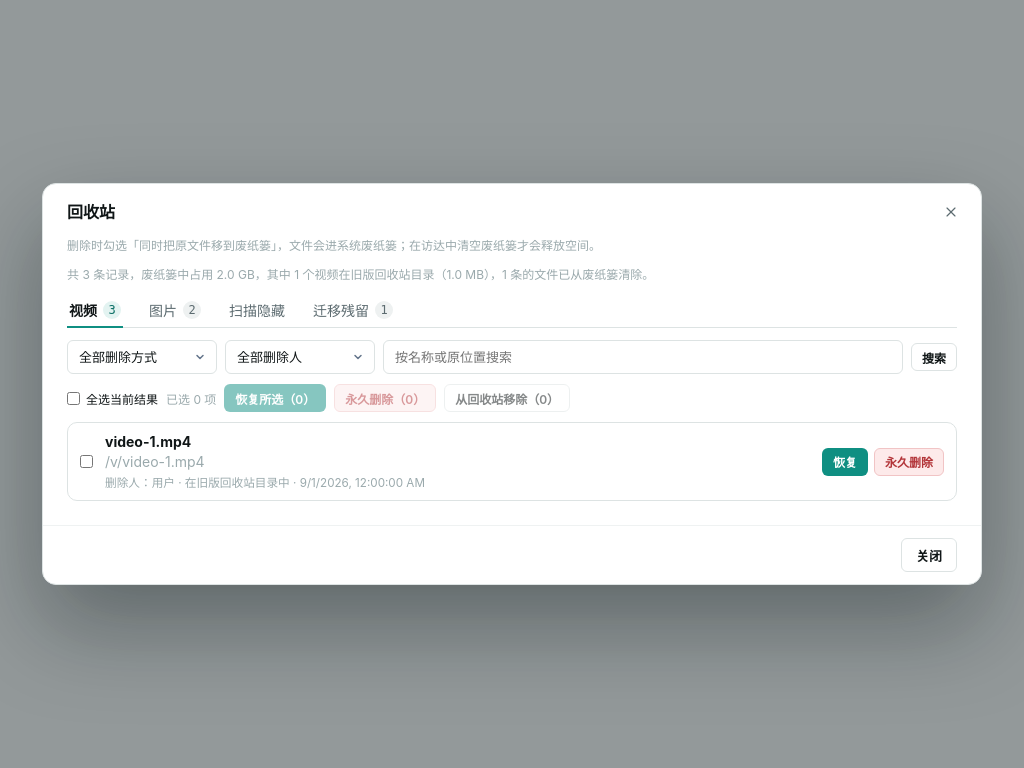
Test: LIB-05 特殊条目的出口与说明 › put_back 的行清除时若返回 not_purgeable，照实显示「请改用恢复」且不给「仍然移除记录」
The image size is (1024, 768).
Click the button with test id "trash-entry-purge": (909, 462) [874,448,944,476]
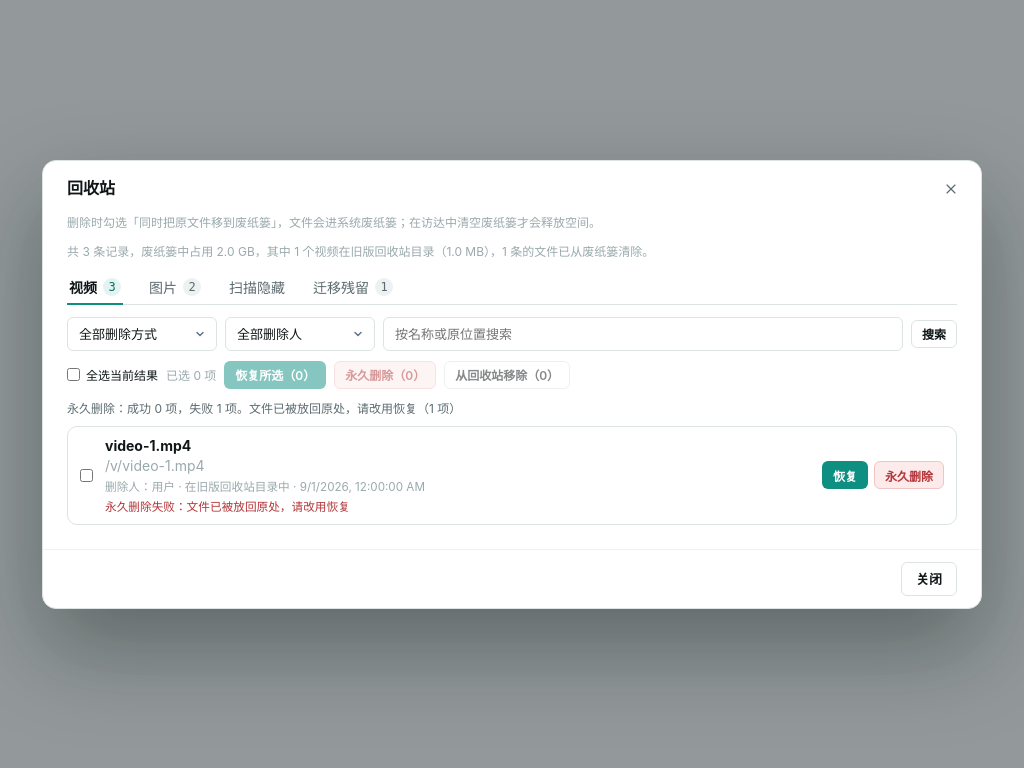
Expected: the element with test id "trash-entry-1" shows "永久删除失败：文件已被放回原处，请改用恢复", [105,500,350,514]
